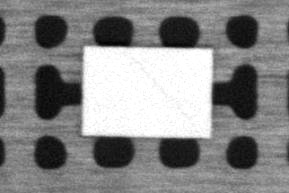DIE_CRACK: (130, 53, 198, 128)
